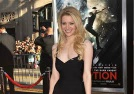female: (58, 10, 87, 43)
